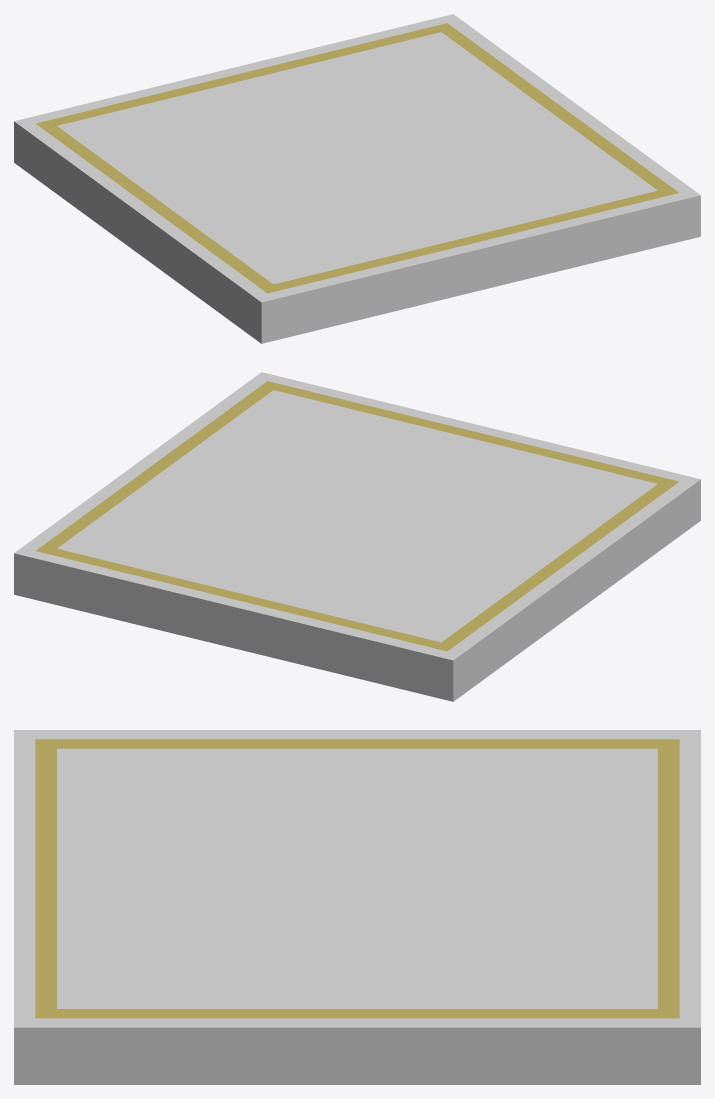
File: Piso.fbx
3 renders of one model, top to bottom at view 1: azimuth 30°, elevation 25°; view 2: azimuth 150°, elevation 25°; view 3: azimuth 270°, elevation 25°, orthographic. The views are drawn at different scales.
Parts seen in each view (by area): view 1: Escenario:Piso; view 2: Escenario:Piso; view 3: Escenario:Piso.
Boxes of the visible parts, x1,y1,x2,y2 form: Escenario:Piso: (14, 14, 700, 343); Escenario:Piso: (14, 372, 700, 701); Escenario:Piso: (14, 730, 700, 1084).
Bounding box in the file's own units: 14.62 × 1.32 × 14.27.
